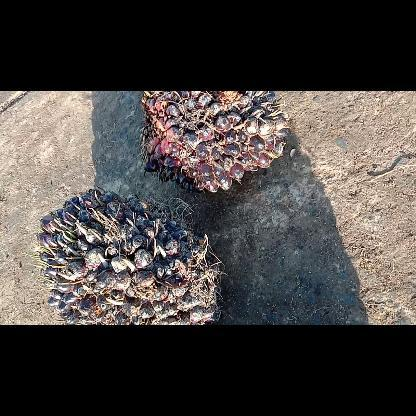TBS mentah: (35, 186, 226, 324), (136, 91, 294, 197)
